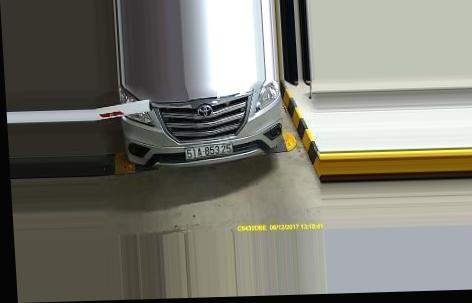License_Plate: (183, 140, 237, 160)
